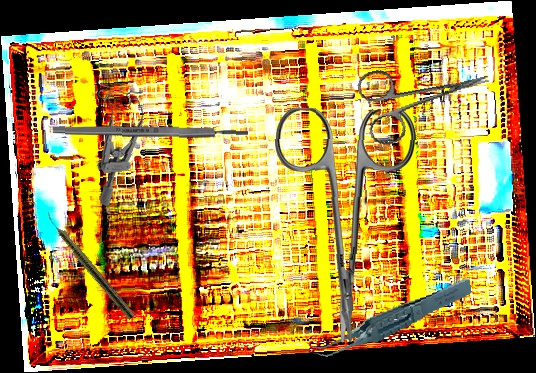Handpiece: (41, 210, 138, 321)
Iris Scissors: (270, 107, 417, 344), (354, 44, 500, 149)
Scalpel Handle: (52, 124, 249, 139)
Speculum: (89, 78, 153, 207)
Tissue Forceps: (302, 276, 479, 360)
